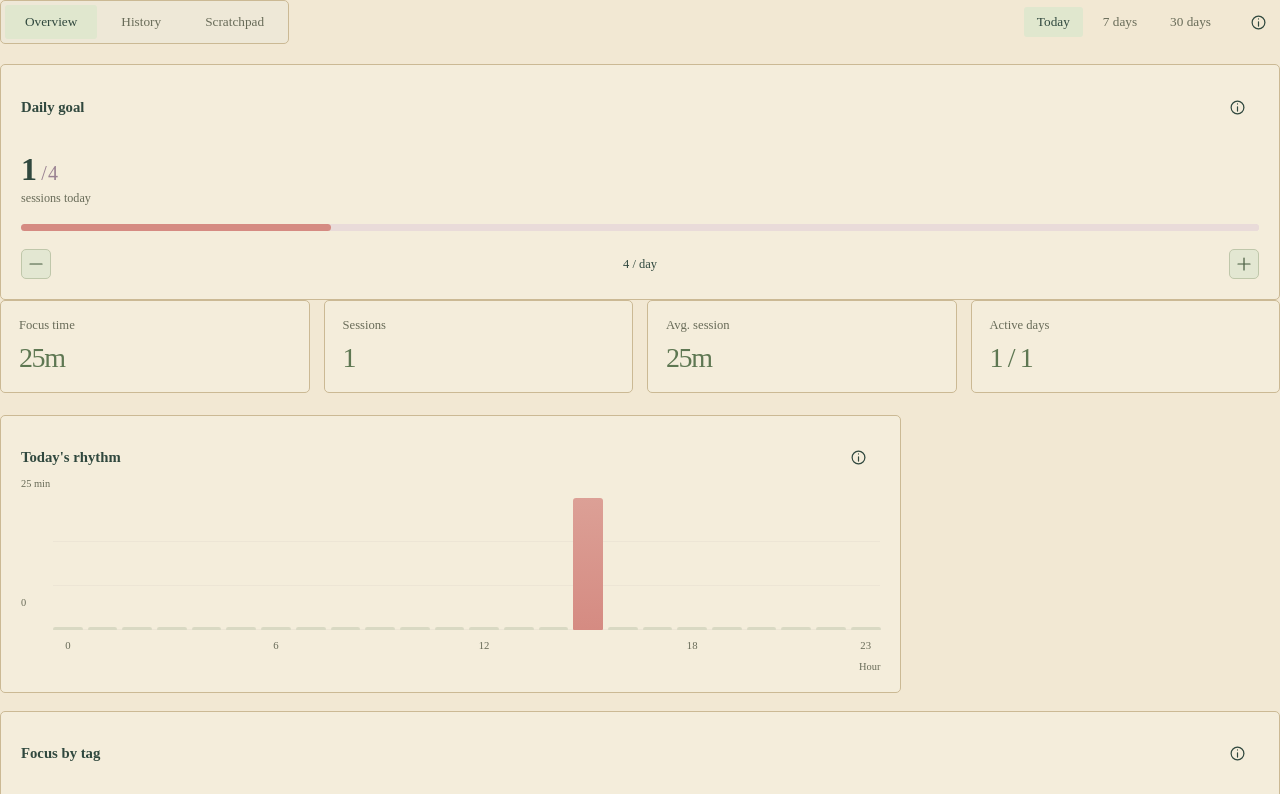
history includes older records and loads more without losing entries
Step 1. Click the button "History" → (141, 22), box 101,5 -> 181,39
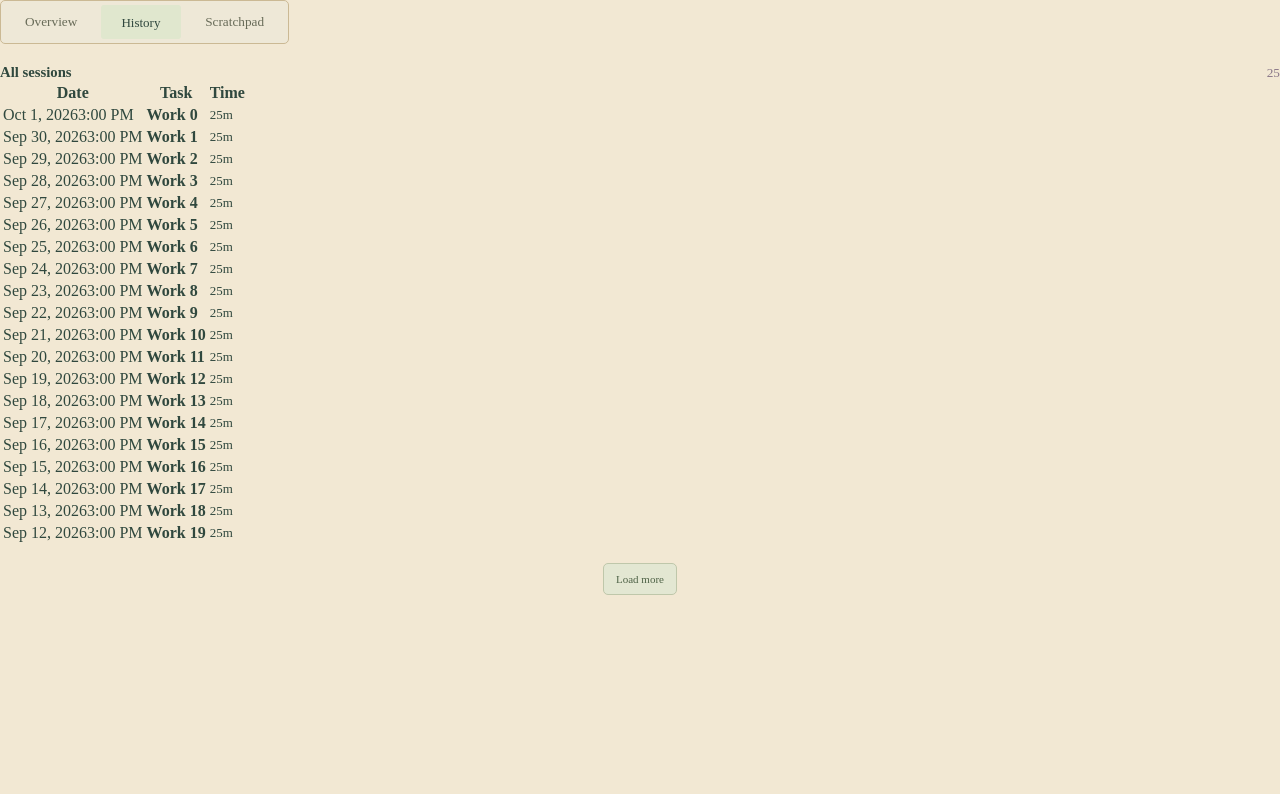
expect the cell "Work 0" is shown: met, box 146,105 -> 207,125
expect the column headings read "Date", "Task", "Time", in this order: met, box 2,83 -> 144,103; 146,83 -> 207,103; 209,83 -> 246,103
Step 2. Click the button "Load more" → (640, 579), box 603,563 -> 677,595
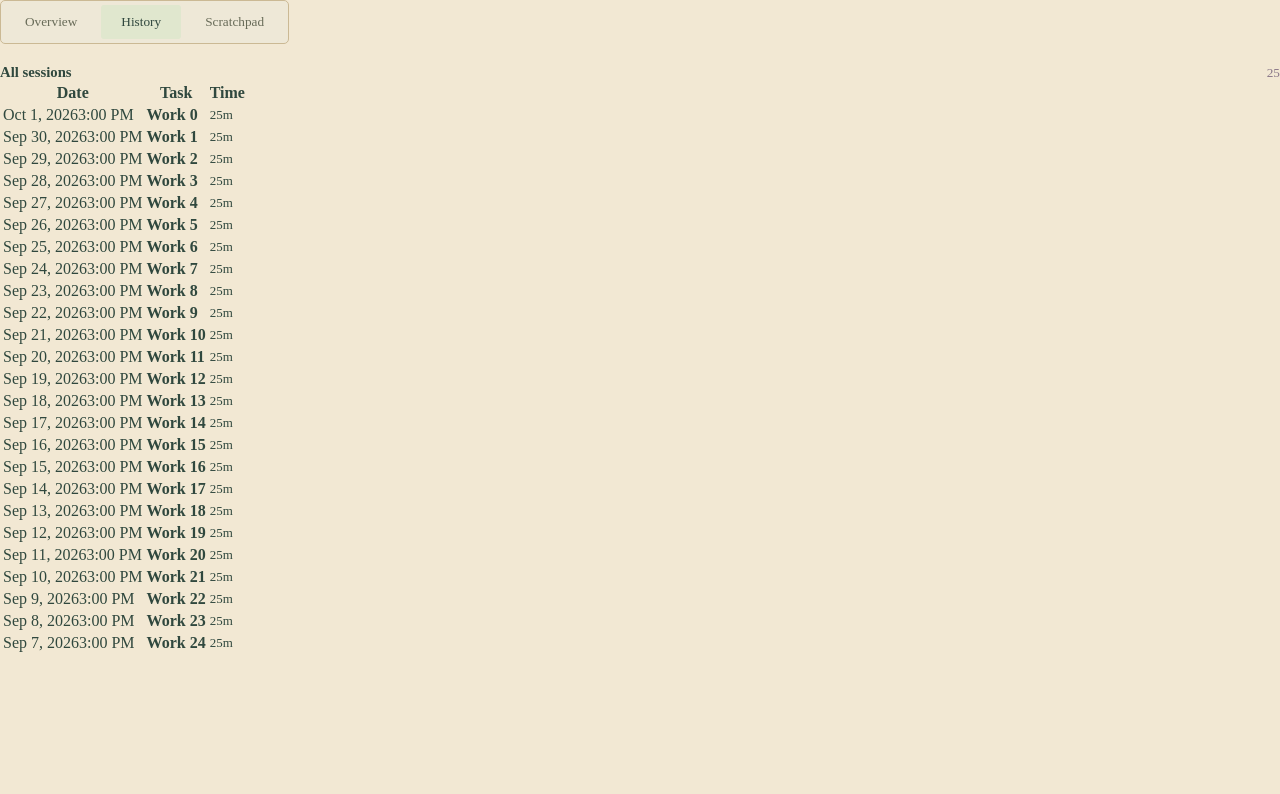
expect the text "Work 24" is shown: met, box 147,634 -> 206,651
expect the button "Load more" is gone: met
